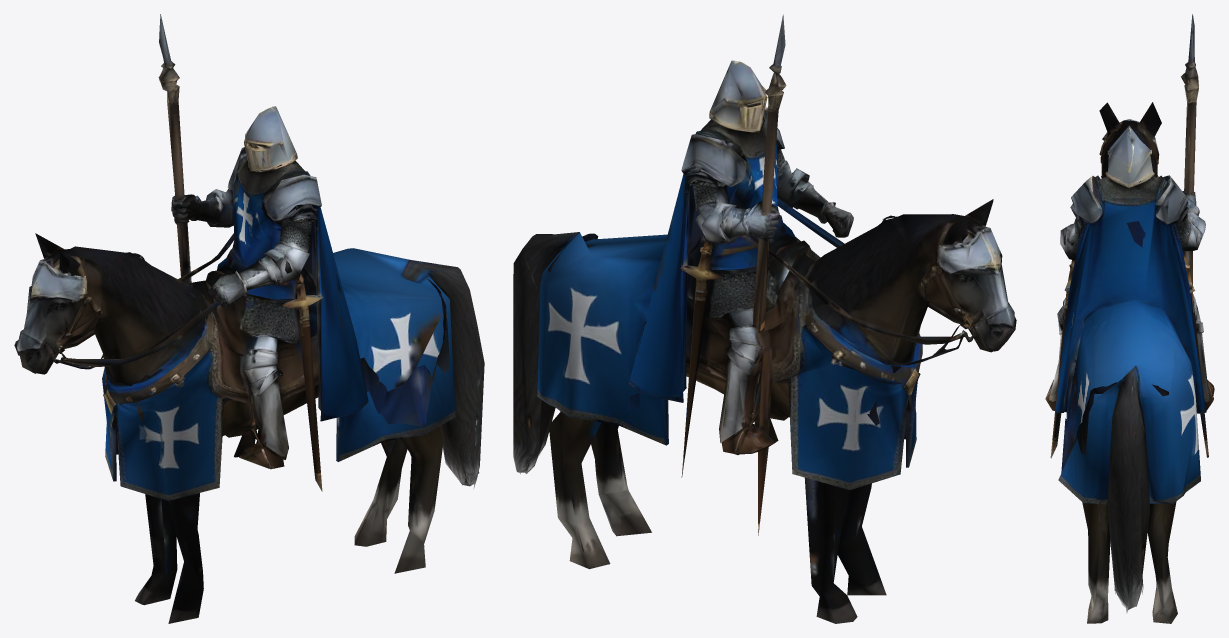
The model's file is hum_cav_lo.glb.
3 views of the same model, side by side, from view 1: azimuth 30°, elevation 25°; view 2: azimuth 150°, elevation 25°; view 3: azimuth 270°, elevation 25° (orthographic). The views are drawn at different scales.
Parts seen in each view (by area): view 1: node_0; view 2: node_0; view 3: node_0.
Boxes of the visible parts, box(x1,y1,x2,y2) form: node_0: box(14, 14, 484, 623); node_0: box(513, 14, 1016, 623); node_0: box(1045, 14, 1214, 623).
Bounding box in the file's own units: 0.8717 × 1.02 × 0.303.
Materials: 1 (1 with a texture image).
